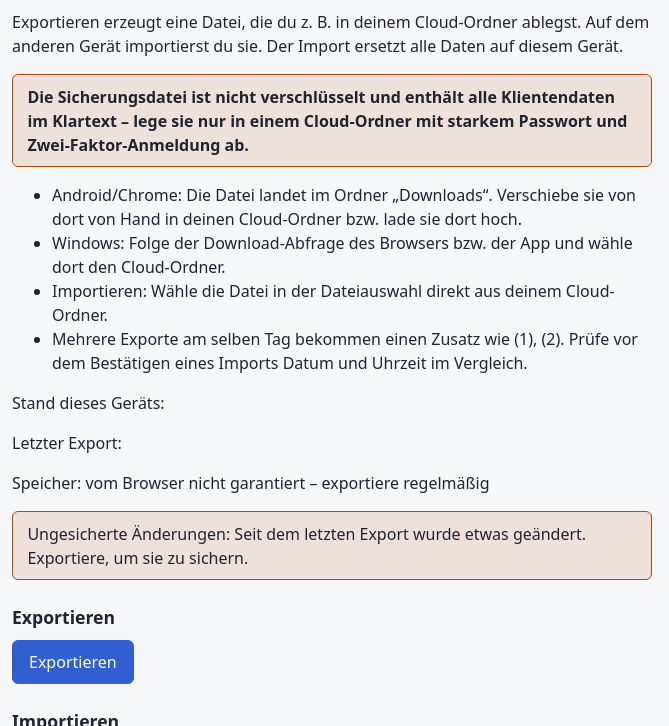
Test: BackupPage › Export-Fehler wird auf Deutsch als Alert gezeigt
Click the button "Exportieren".
click(73, 662)  # box [12,640,134,684]
(page scrolled)
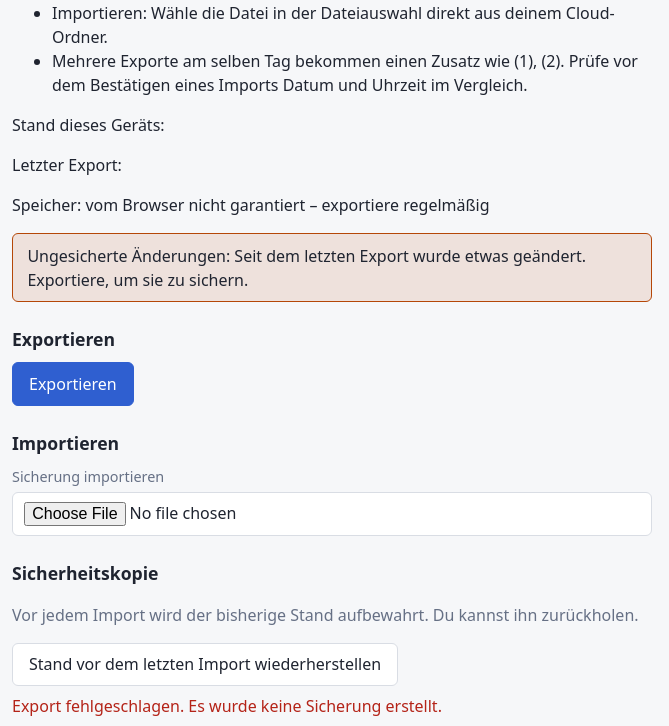
Now the message "Export fehlgeschlagen. Es wurde keine Sicherung erstellt." is shown, box [12,695,442,717]
